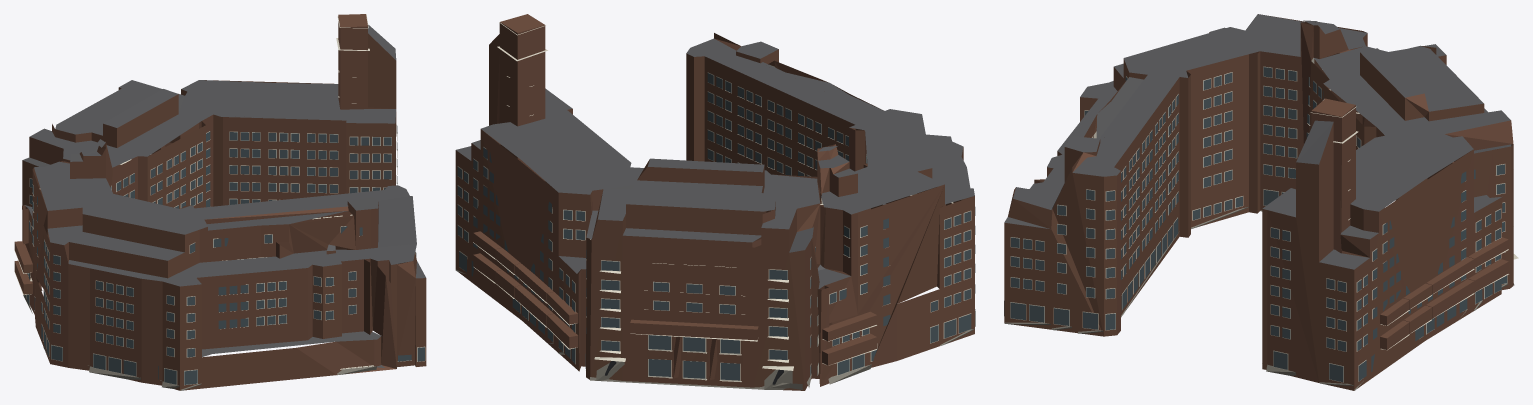
The model's file is het-nieuwe-huis.lod1.glb.
3 renders of one model, left to right at view 1: azimuth 30°, elevation 25°; view 2: azimuth 150°, elevation 25°; view 3: azimuth 270°, elevation 25°, orthographic. The views are drawn at different scales.
Parts seen in each view (by area): view 1: het-nieuwe-huis; view 2: het-nieuwe-huis; view 3: het-nieuwe-huis.
Boxes of the visible parts, x1=… form: het-nieuwe-huis: x1=14, y1=14, x2=426, y2=390; het-nieuwe-huis: x1=455, y1=14, x2=975, y2=390; het-nieuwe-huis: x1=1004, y1=14, x2=1518, y2=390.
Bounding box in the file's own units: 73.82 × 39.2 × 71.66.
